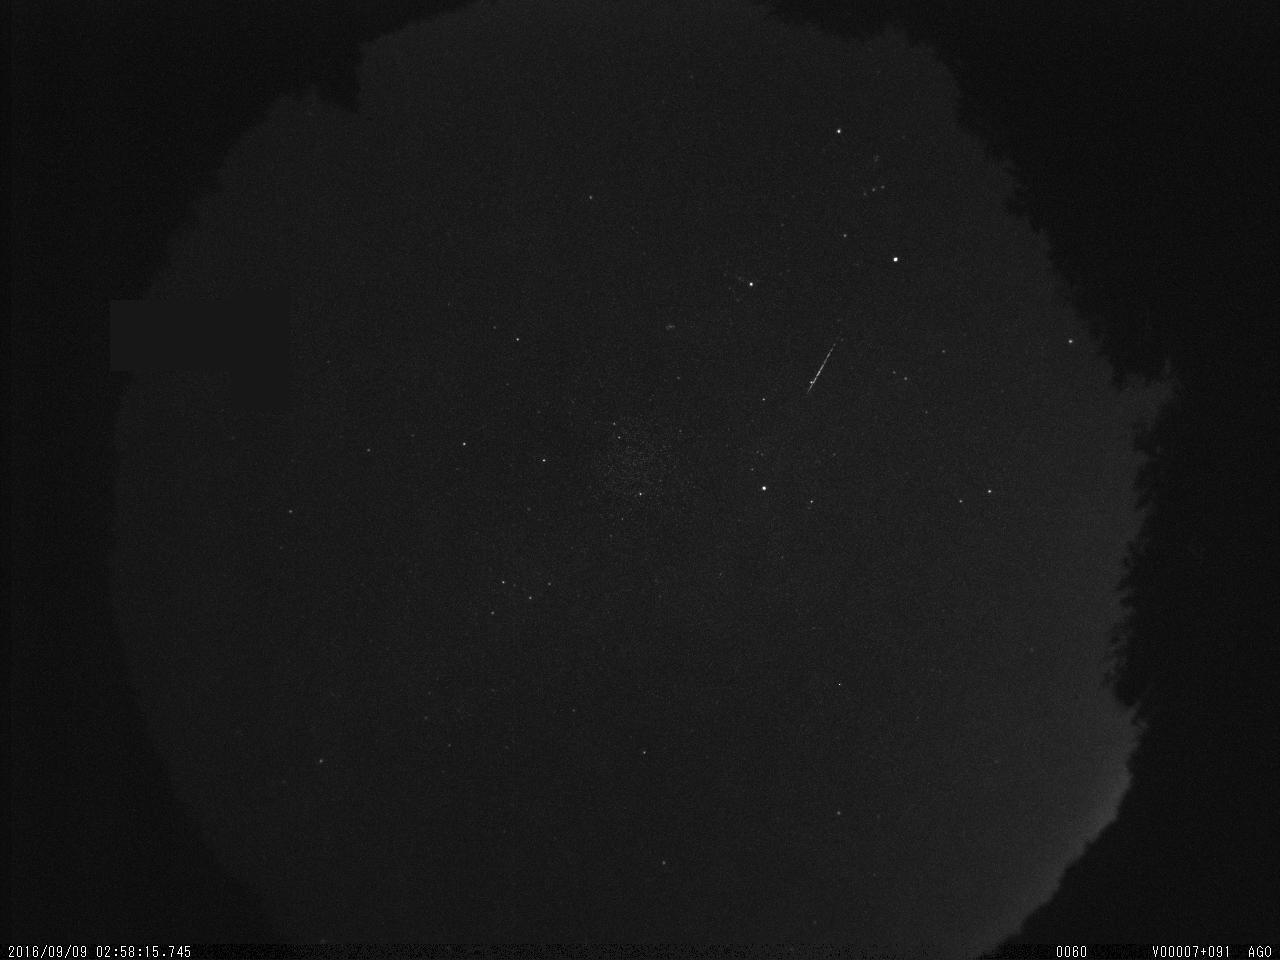meteor: (789, 321, 853, 402)
